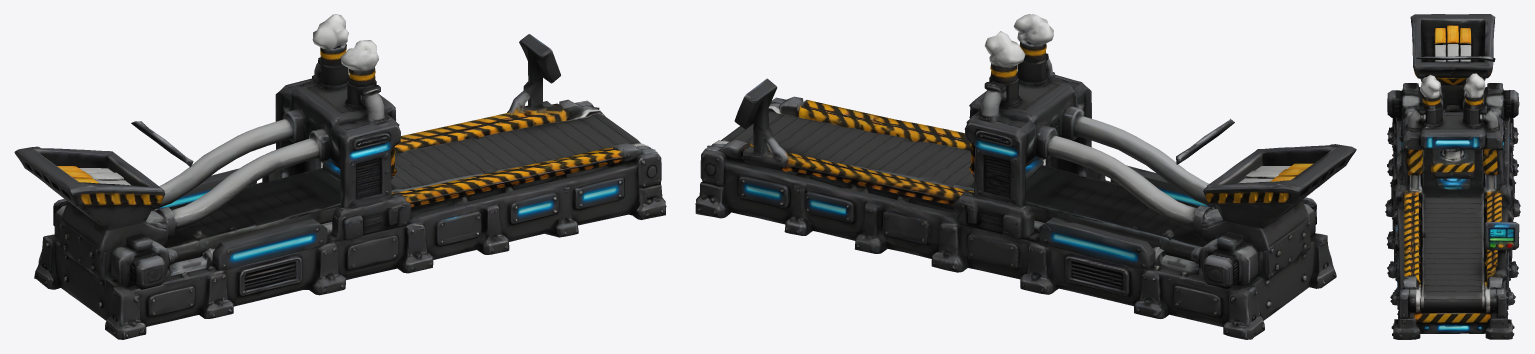
Rendered from MintMachine.glb.
3 views of the same model, side by side, from view 1: azimuth 30°, elevation 25°; view 2: azimuth 150°, elevation 25°; view 3: azimuth 270°, elevation 25° (orthographic). The views are drawn at different scales.
Parts seen in each view (by area): view 1: Mesh::generatedModels/3THtL229G6X54zHlzx7R.gltf; view 2: Mesh::generatedModels/3THtL229G6X54zHlzx7R.gltf; view 3: Mesh::generatedModels/3THtL229G6X54zHlzx7R.gltf.
Boxes of the visible parts, <box> form: Mesh::generatedModels/3THtL229G6X54zHlzx7R.gltf: <box>14,14,666,339</box>; Mesh::generatedModels/3THtL229G6X54zHlzx7R.gltf: <box>695,14,1356,339</box>; Mesh::generatedModels/3THtL229G6X54zHlzx7R.gltf: <box>1385,14,1520,339</box>.
Size of the model in its own units: 1 by 0.3699 by 0.2723.
Materials: 1 (1 with a texture image).
